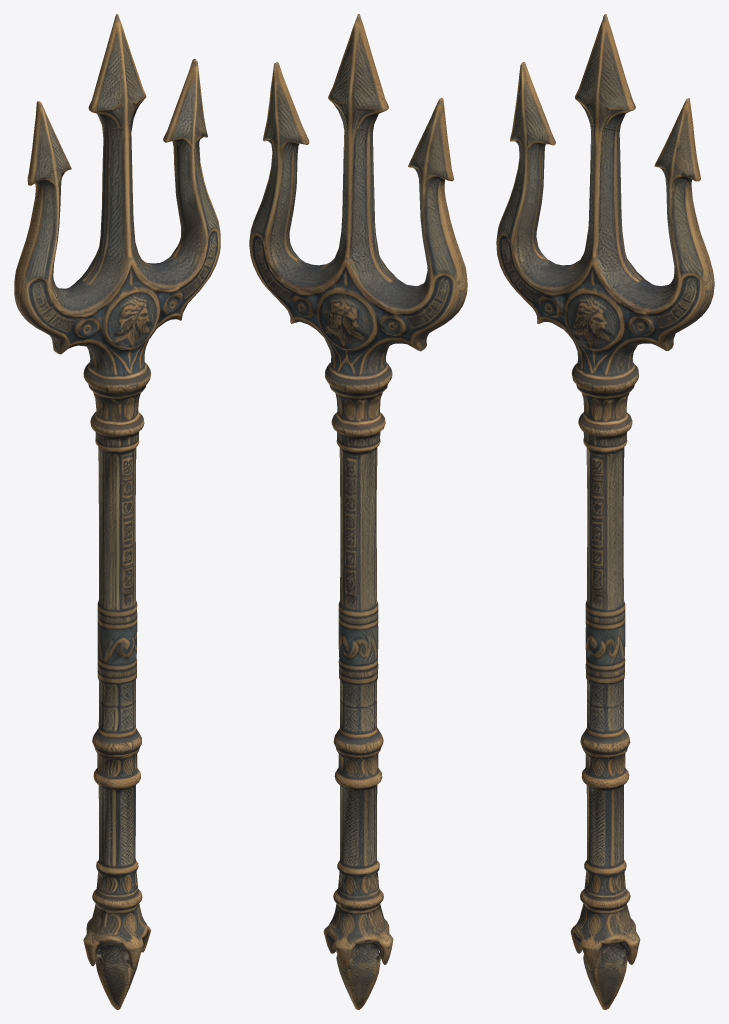
Rendered from WF_GreekRelics_PoseidonTrident.fbx.
3 views of the same model, side by side, from view 1: azimuth 30°, elevation 25°; view 2: azimuth 150°, elevation 25°; view 3: azimuth 330°, elevation 25° (orthographic).
Visible parts, largest first — view 1: Mesh1.0; view 2: Mesh1.0; view 3: Mesh1.0.
Boxes of the visible parts, x1,y1,x2,y2 form: Mesh1.0: (14,14,220,1009); Mesh1.0: (249,14,467,1009); Mesh1.0: (496,14,714,1009).
Size of the model in its own units: 41.74 by 191 by 12.94.
Materials: 1 (1 with a texture image).
